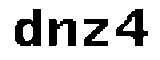4: (115, 3, 152, 50)
d: (8, 5, 44, 50)
n: (46, 14, 79, 52)
z: (78, 14, 110, 50)
